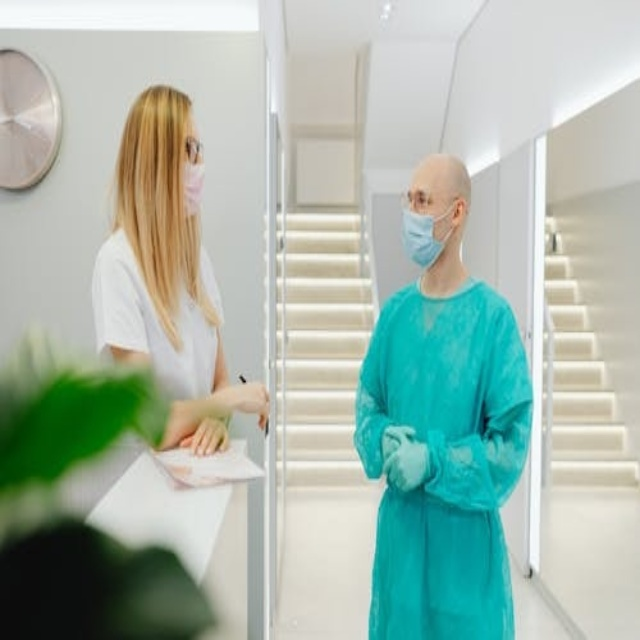Gafas: (400, 189, 460, 215), (185, 137, 203, 162)
Guantes: (382, 425, 430, 492)
Mascara: (401, 201, 456, 269), (182, 157, 206, 217)
Sin_guantes: (219, 379, 272, 424), (186, 415, 231, 458)
